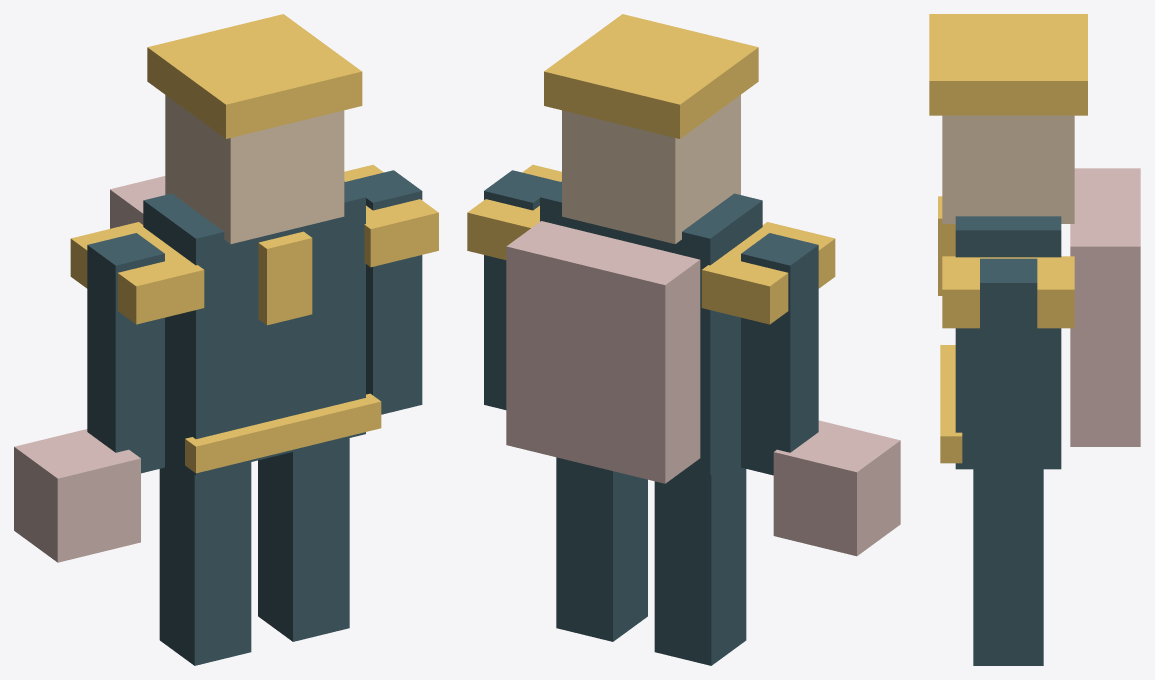
Rendered from 04_tamsin_gravesong_oracle_near_wild.glb.
3 views of the same model, side by side, from view 1: azimuth 30°, elevation 25°; view 2: azimuth 150°, elevation 25°; view 3: azimuth 270°, elevation 25° (orthographic).
Parts seen in each view (by area): view 1: Tamsin Gravesong, Oracle near Wild; view 2: Tamsin Gravesong, Oracle near Wild; view 3: Tamsin Gravesong, Oracle near Wild.
Boxes of the visible parts, bbox=[...] form: Tamsin Gravesong, Oracle near Wild: bbox=[14, 14, 438, 665]; Tamsin Gravesong, Oracle near Wild: bbox=[467, 14, 900, 665]; Tamsin Gravesong, Oracle near Wild: bbox=[929, 14, 1140, 665].
Size of the model in its own units: 1.04 by 1.52 by 0.5028.
